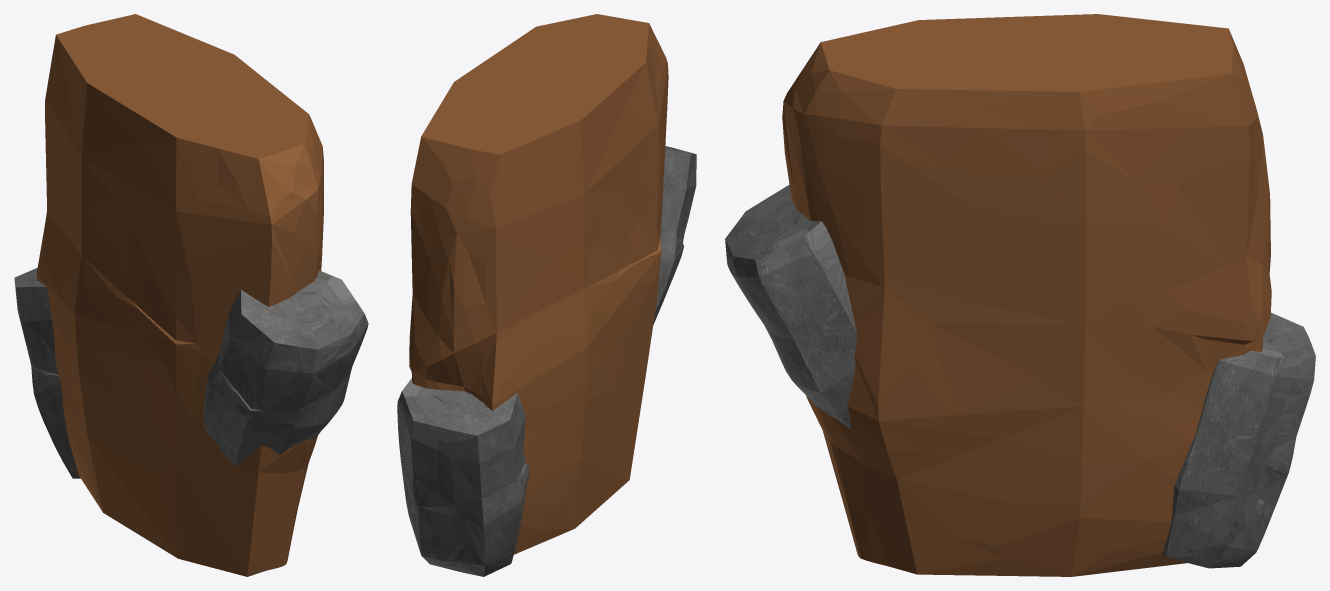
The model's file is MultipleRocksTogether.fbx.
3 renders of one model, left to right at view 1: azimuth 30°, elevation 25°; view 2: azimuth 150°, elevation 25°; view 3: azimuth 270°, elevation 25°, orthographic. The views are drawn at different scales.
Visible parts, largest first — view 1: DessertRock, DessertRock1, DessertRock2; view 2: DessertRock, DessertRock2, DessertRock1; view 3: DessertRock, DessertRock2, DessertRock1.
Boxes of the visible parts, box(x1,y1,x2,y2) form: DessertRock: box(36, 14, 323, 576); DessertRock1: box(204, 270, 368, 466); DessertRock2: box(14, 268, 80, 478); DessertRock: box(409, 14, 668, 554); DessertRock2: box(397, 378, 528, 576); DessertRock1: box(653, 146, 696, 324); DessertRock: box(782, 14, 1271, 576); DessertRock2: box(1162, 312, 1315, 568); DessertRock1: box(725, 184, 857, 429).
Size of the model in its own units: 6.11 by 16.49 by 17.5.
